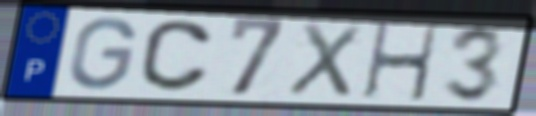3: (445, 23, 509, 104)
7: (227, 15, 287, 100)
C: (136, 18, 216, 94)
G: (66, 14, 140, 92)
H: (361, 21, 442, 104)
X: (283, 20, 365, 100)
